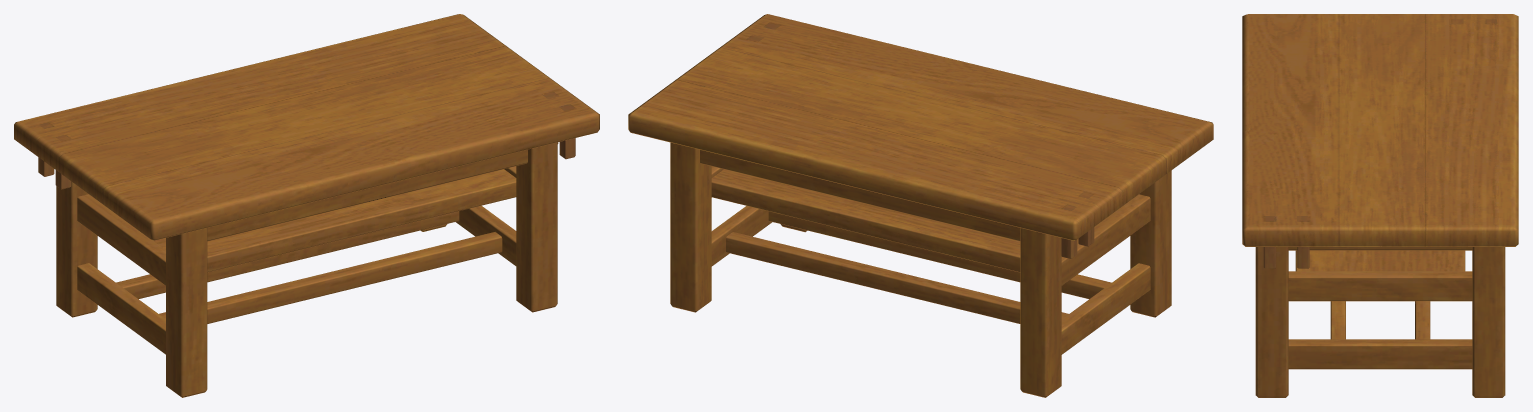
The model's file is worktable.glb.
The picture shows the model from 3 angles, left to right: view 1: azimuth 30°, elevation 25°; view 2: azimuth 150°, elevation 25°; view 3: azimuth 270°, elevation 25°; orthographic projection.
Parts seen in each view (by area): view 1: Table_low__mReBody; view 2: Table_low__mReBody; view 3: Table_low__mReBody.
Part boxes in pixels (bbox=[...]): Table_low__mReBody: bbox=[14, 14, 599, 397]; Table_low__mReBody: bbox=[628, 14, 1213, 397]; Table_low__mReBody: bbox=[1242, 14, 1518, 397].
Size of the model in its own units: 18.53 by 7.5 by 10.
1 material, 1 textured.
